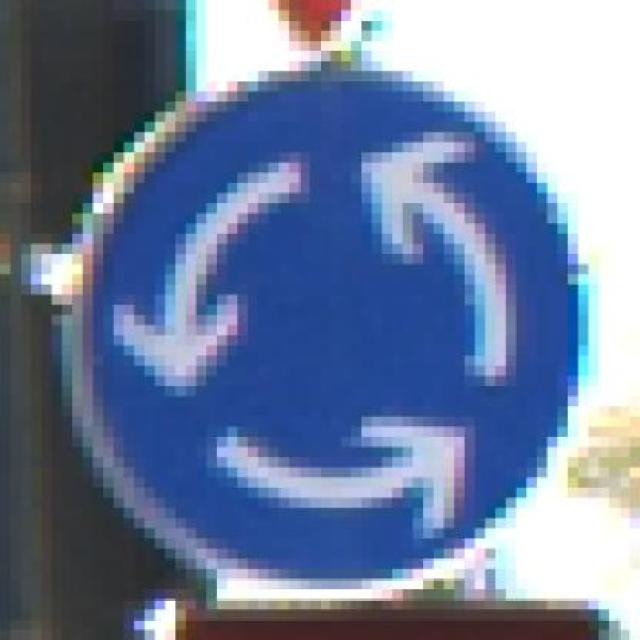Round-About: (31, 51, 598, 609)
